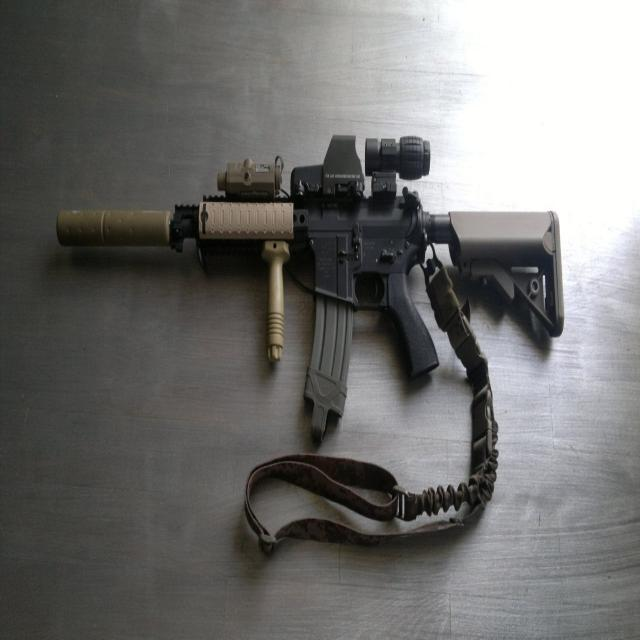firearm: (55, 131, 565, 449)
